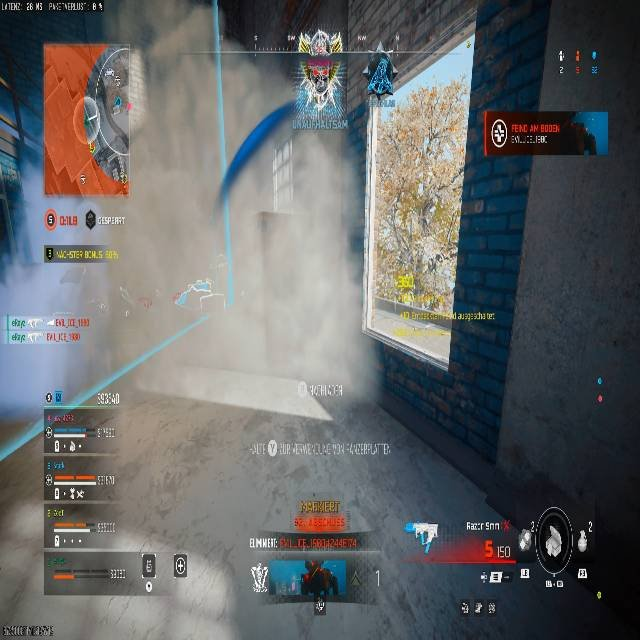player: (81, 50, 135, 185), (302, 559, 335, 616)
